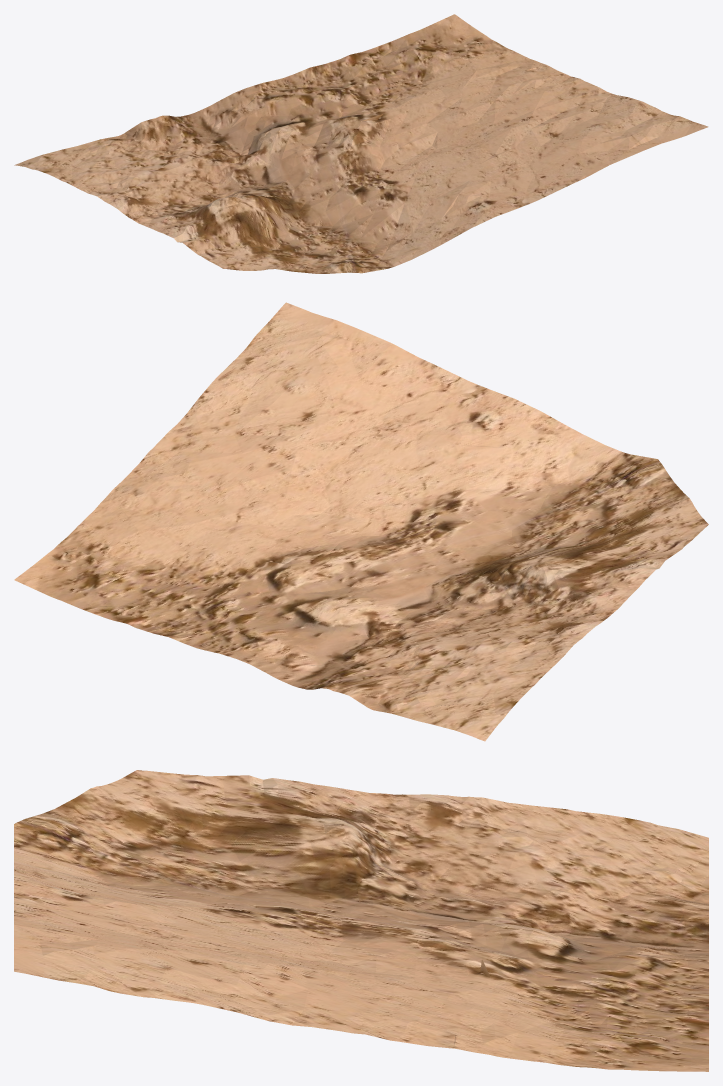
3 views of the same model, one above another, from view 1: azimuth 30°, elevation 25°; view 2: azimuth 150°, elevation 25°; view 3: azimuth 270°, elevation 25° (orthographic). The views are drawn at different scales.
Bounding box in the file's own units: 1.04 × 0.265 × 1.04.
Materials: 2 (2 with a texture image).
